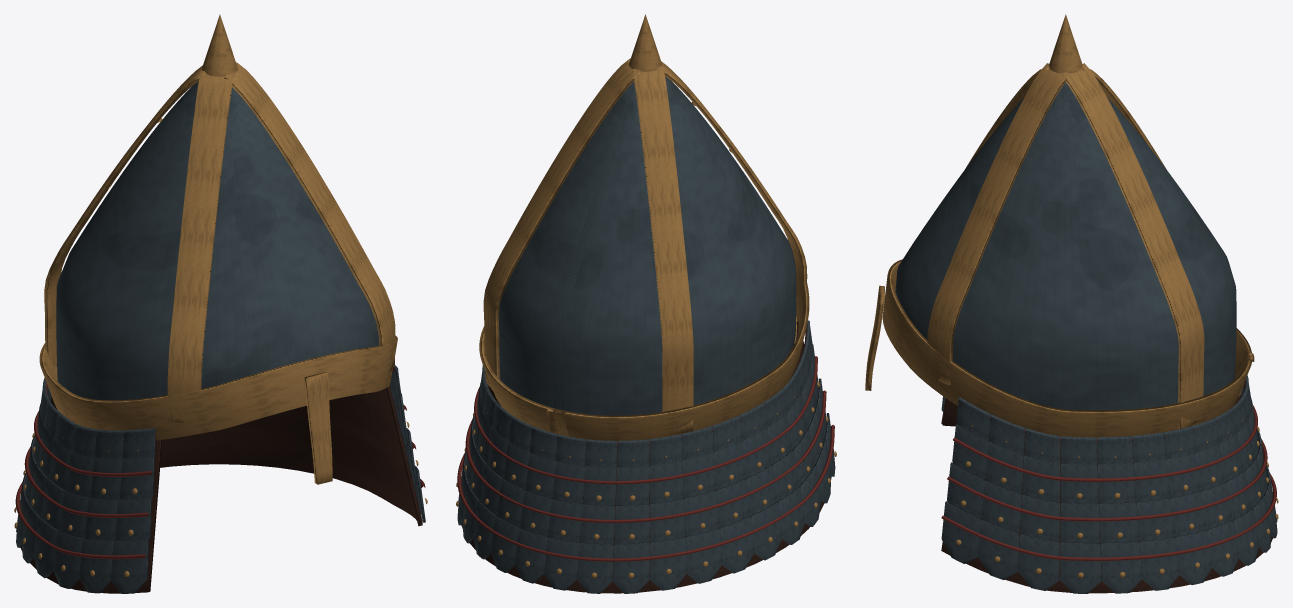
The picture shows the model from 3 angles, left to right: view 1: azimuth 30°, elevation 25°; view 2: azimuth 150°, elevation 25°; view 3: azimuth 270°, elevation 25°; orthographic projection. The views are drawn at different scales.
Parts seen in each view (by area): view 1: blackened lamellar plate, aged alloy edge, oiled strap leather, woven wool; view 2: blackened lamellar plate, aged alloy edge, woven wool, oiled strap leather; view 3: blackened lamellar plate, aged alloy edge, woven wool, oiled strap leather.
Boxes of the visible parts, x1,y1,x2,y2 form: blackened lamellar plate: (16,82,425,593); aged alloy edge: (14,14,427,576); oiled strap leather: (20,385,422,593); woven wool: (15,368,425,559); blackened lamellar plate: (457,76,835,593); aged alloy edge: (456,14,836,578); woven wool: (457,326,834,561); oiled strap leather: (461,321,831,593); blackened lamellar plate: (895,82,1277,593); aged alloy edge: (865,14,1278,578); woven wool: (941,380,1276,560); oiled strap leather: (941,394,1272,593).
Bounding box in the file's own units: 0.2628 × 0.3926 × 0.2853.
5 materials, 5 textured.
